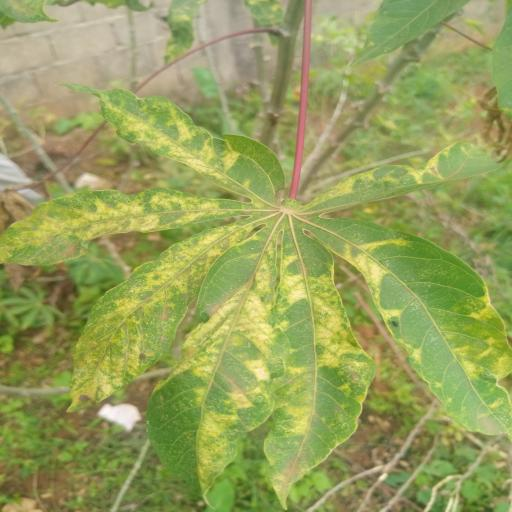Cassava_Mosaic: (0, 90, 512, 508)
